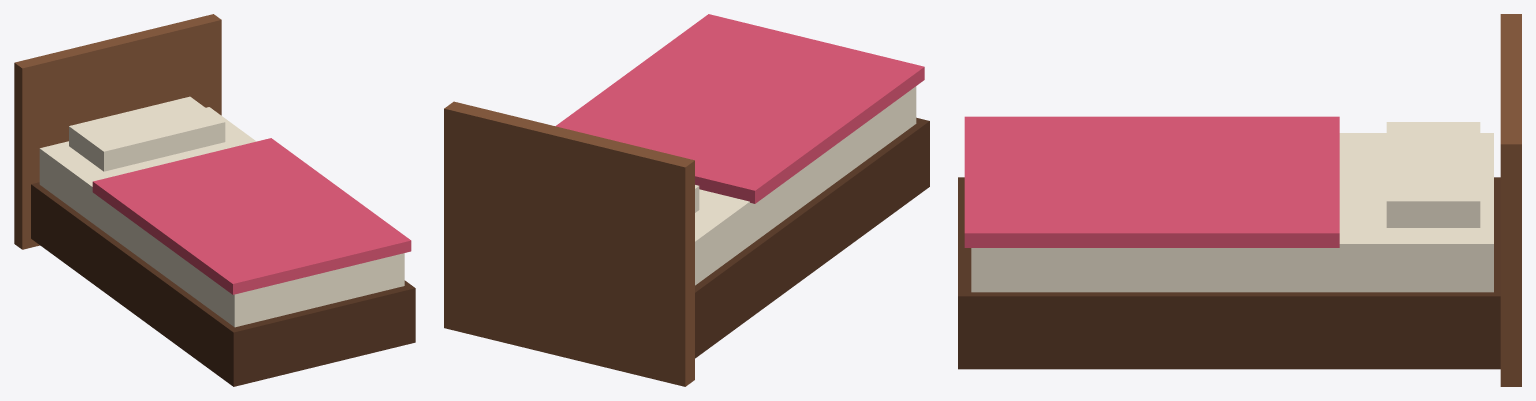
Rendered from bed.glb.
3 views of the same model, side by side, from view 1: azimuth 30°, elevation 25°; view 2: azimuth 150°, elevation 25°; view 3: azimuth 270°, elevation 25° (orthographic). The views are drawn at different scales.
Parts seen in each view (by area): view 1: Box3, Box1, Box5, Box2, Box4; view 2: Box5, Box3, Box1, Box2; view 3: Box3, Box1, Box2, Box4, Box5.
Boxes of the visible parts, <box> form: Box3: <box>92,138,411,294</box>; Box1: <box>31,182,415,386</box>; Box5: <box>14,14,221,249</box>; Box2: <box>39,107,404,327</box>; Box4: <box>69,96,225,171</box>; Box5: <box>444,101,694,386</box>; Box3: <box>555,14,924,203</box>; Box1: <box>695,117,929,358</box>; Box2: <box>695,86,916,285</box>; Box3: <box>964,116,1339,247</box>; Box1: <box>958,177,1500,369</box>; Box2: <box>971,133,1493,292</box>; Box4: <box>1386,122,1480,227</box>; Box5: <box>1500,14,1521,386</box>.
Bounding box in the file's own units: 1.15 × 1 × 2.1.
